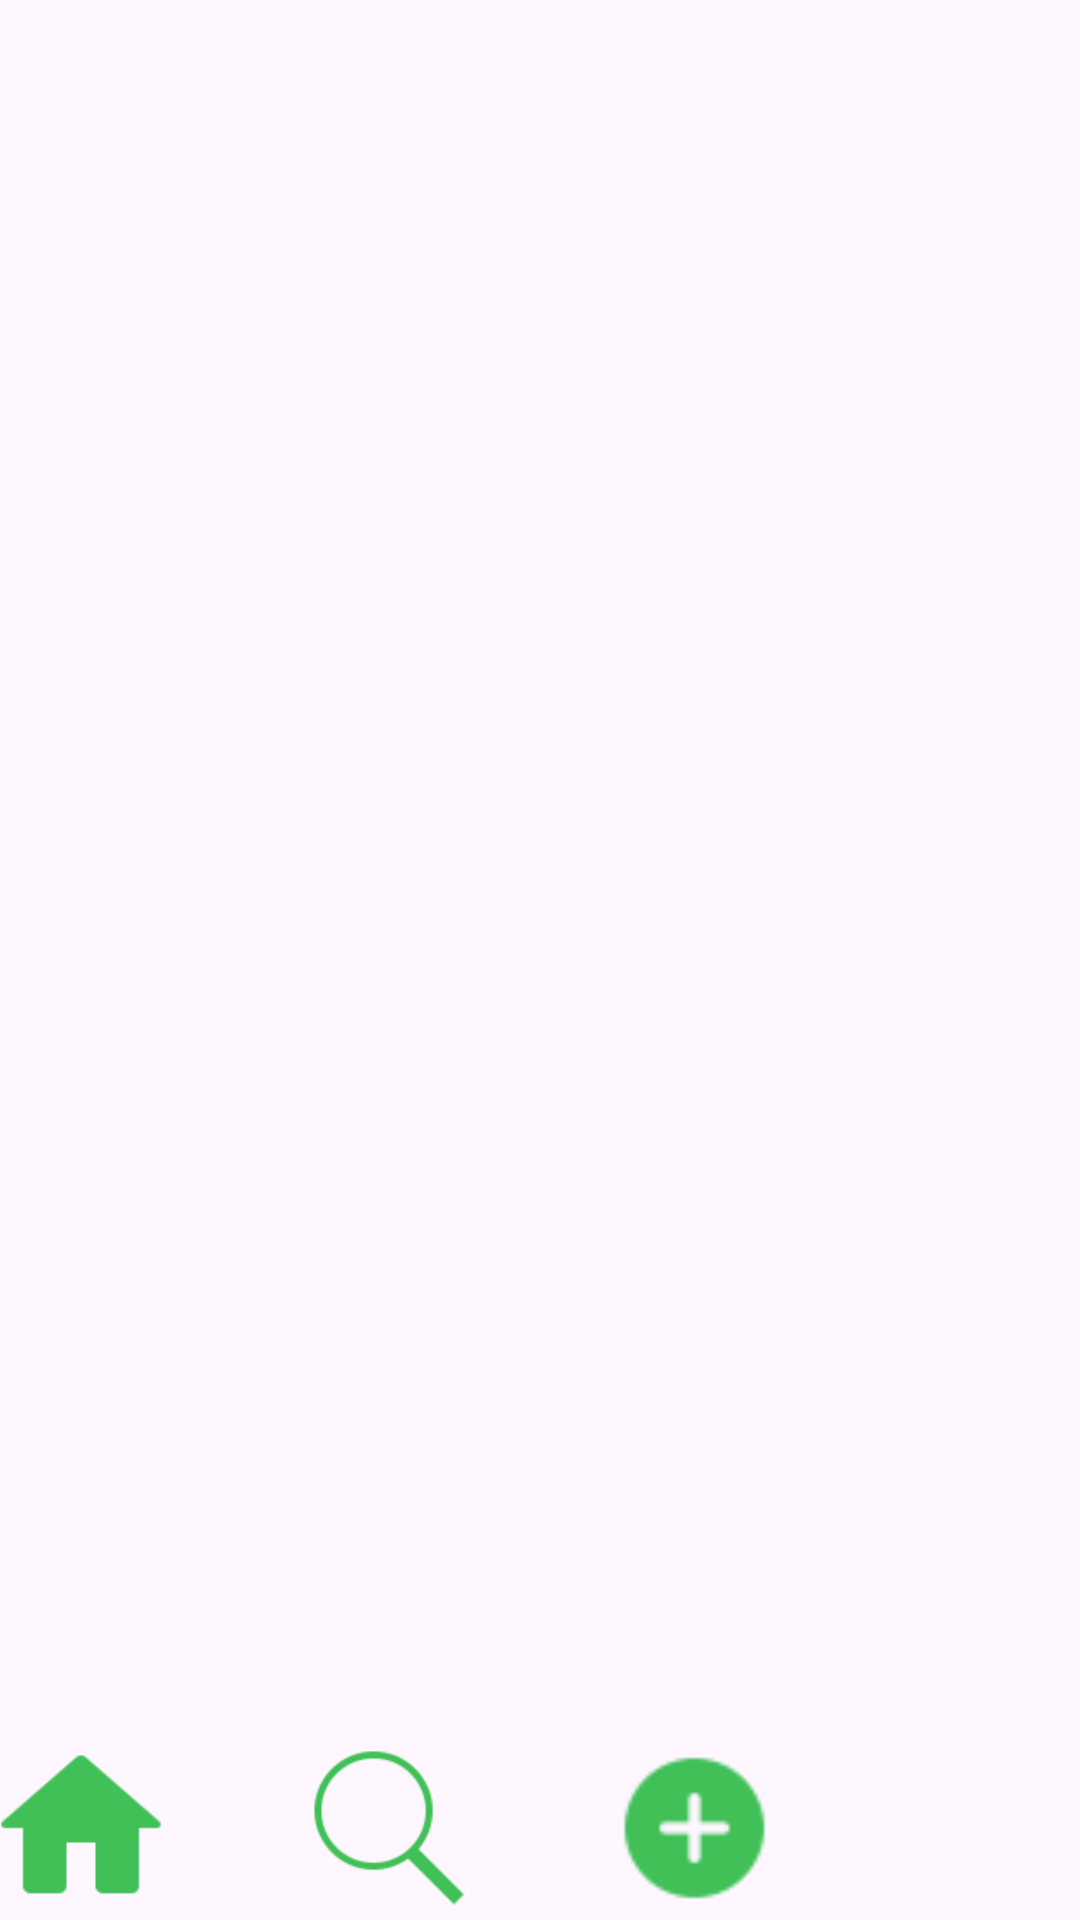

Icon click points for this 1080 × 1920 phone screenshot, format (x=x, y=y):
add: (x=694, y=1828)
search: (x=389, y=1828)
